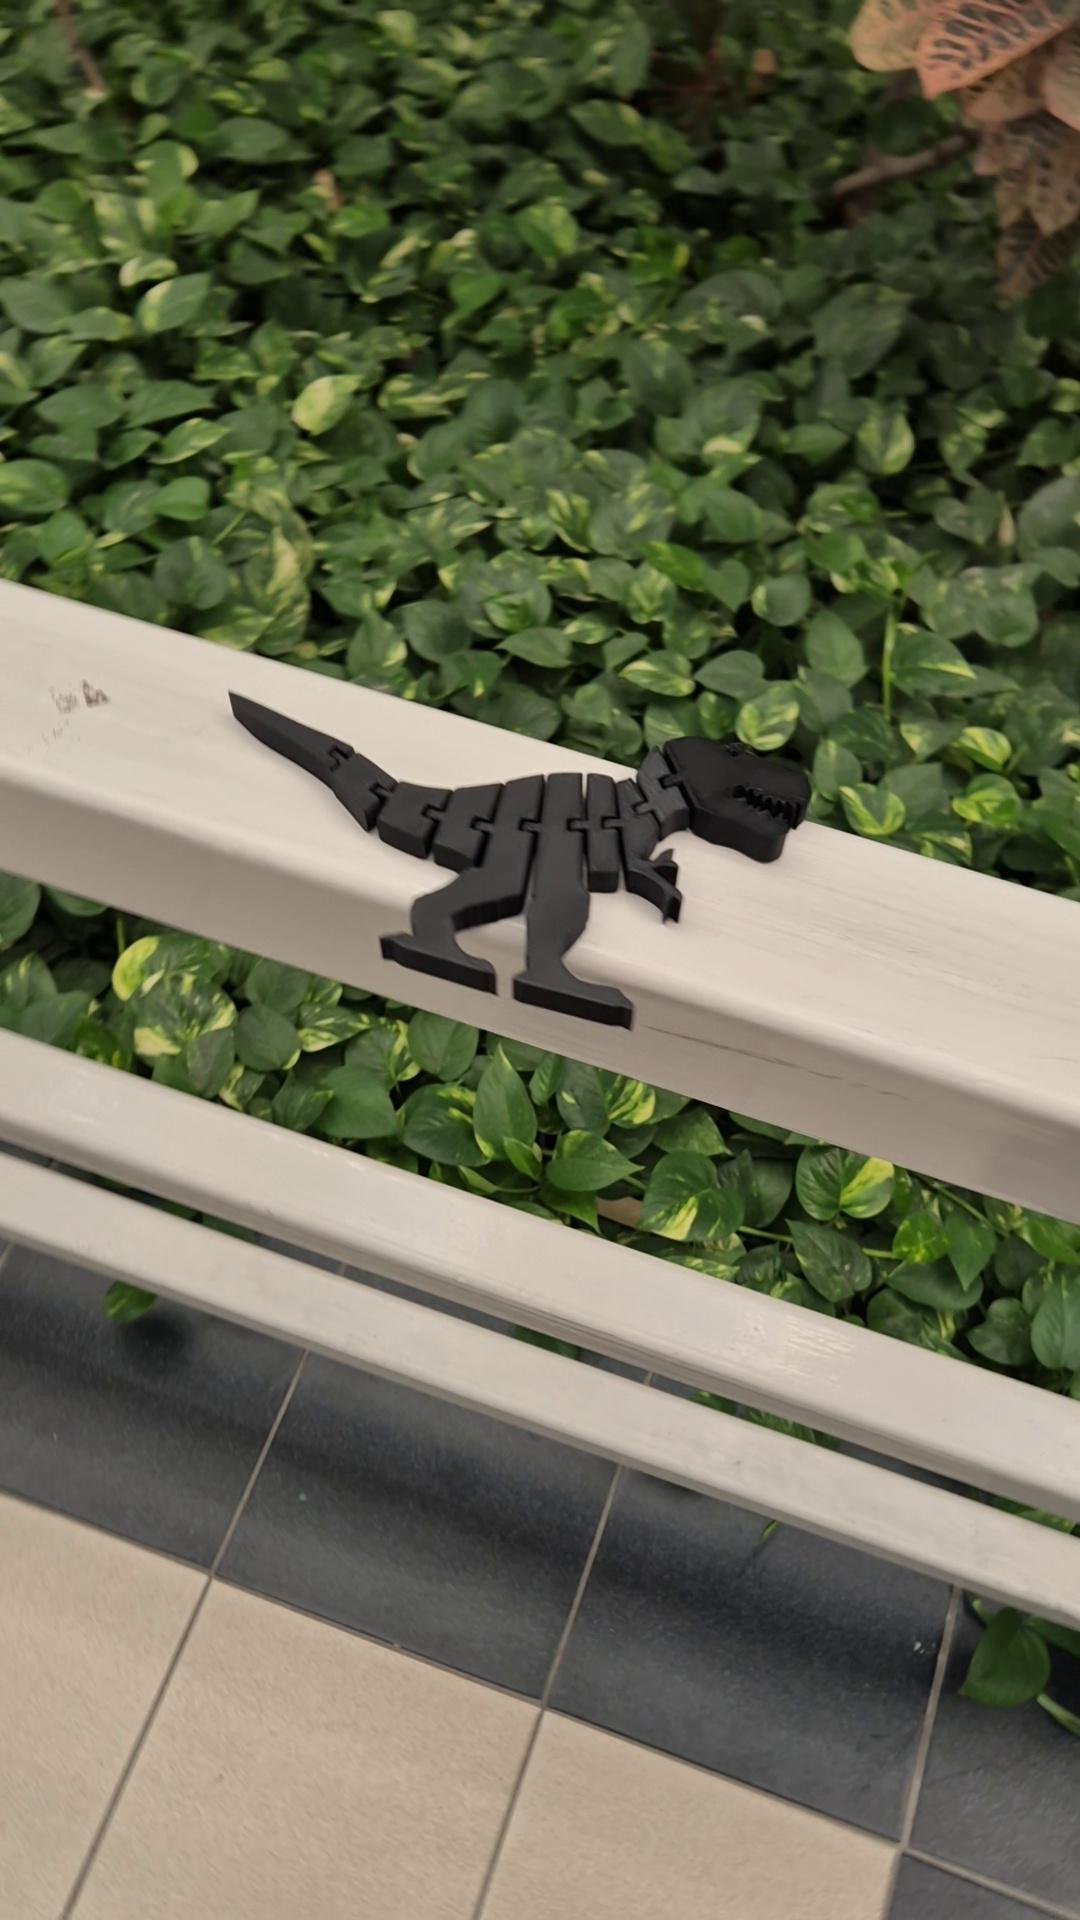dinosaur: (227, 687, 814, 1035)
